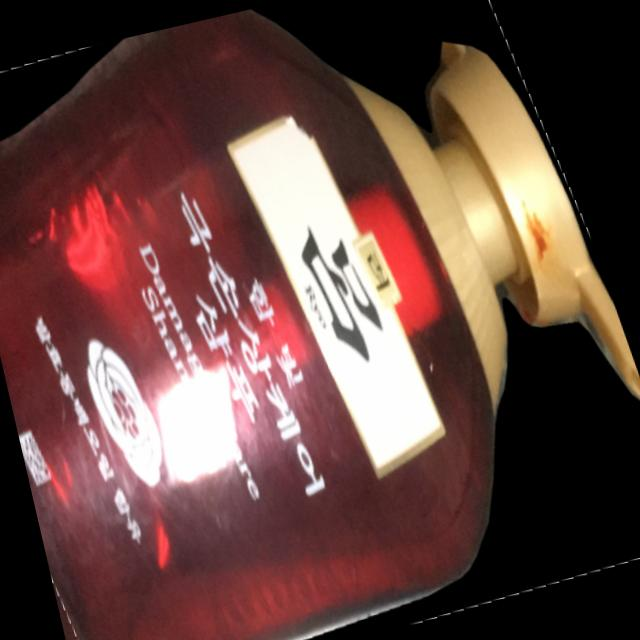plastic: (0, 5, 640, 640)
